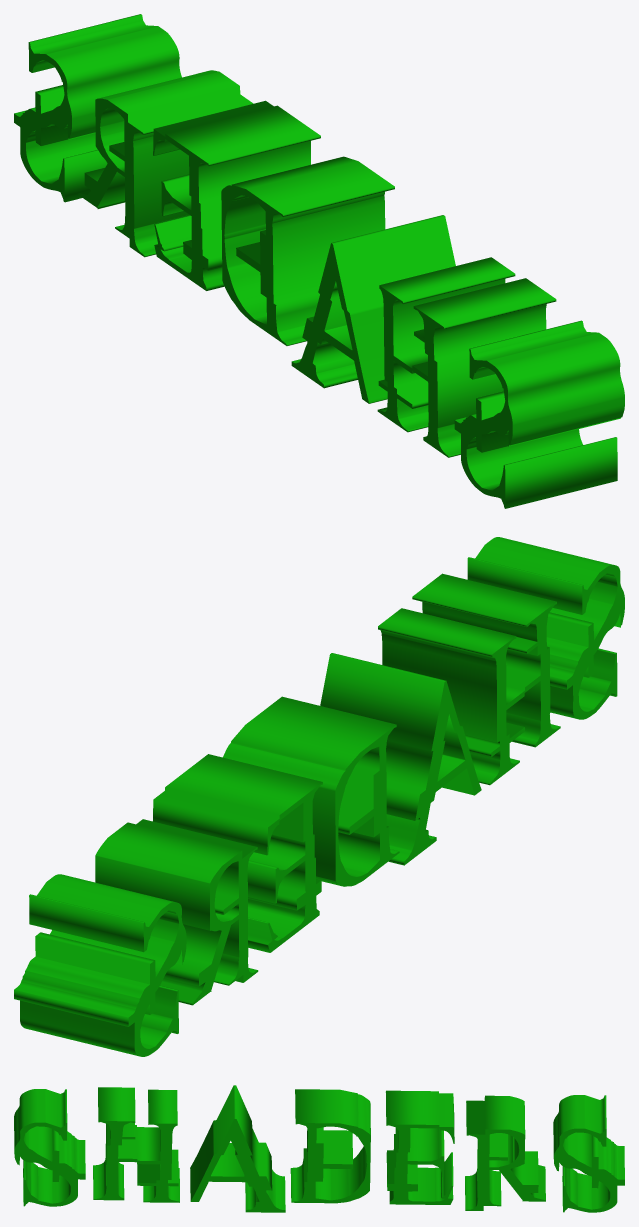
Rendered from ShadersFont.obj.
The picture shows the model from 3 angles, top to bottom: view 1: azimuth 30°, elevation 25°; view 2: azimuth 150°, elevation 25°; view 3: azimuth 270°, elevation 25°; orthographic projection. The views are drawn at different scales.
Visible parts, largest first — view 1: Text; view 2: Text; view 3: Text.
Boxes of the visible parts, x1=… form: Text: x1=14, y1=14, x2=624, y2=508; Text: x1=14, y1=537, x2=624, y2=1056; Text: x1=14, y1=1085, x2=624, y2=1212.
Size of the model in its own units: 0.8963 by 1.12 by 6.52.
